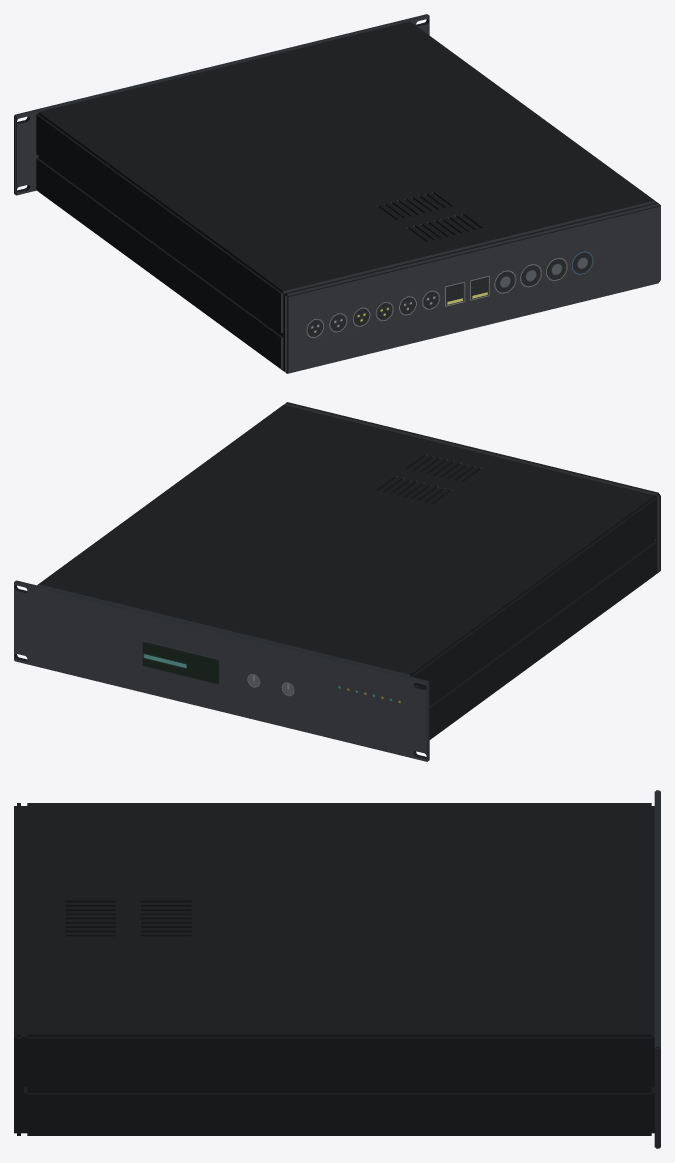
Rendered from db-audiotechnik-d40.glb.
3 views of the same model, one above another, from view 1: azimuth 30°, elevation 25°; view 2: azimuth 150°, elevation 25°; view 3: azimuth 270°, elevation 25° (orthographic). The views are drawn at different scales.
Parts seen in each view (by area): view 1: db-audiotechnik-d40-body; view 2: db-audiotechnik-d40-body; view 3: db-audiotechnik-d40-body.
Boxes of the visible parts, box(x1,y1,x2,y2) form: db-audiotechnik-d40-body: box(14, 14, 660, 373); db-audiotechnik-d40-body: box(14, 402, 660, 761); db-audiotechnik-d40-body: box(14, 790, 660, 1148).
Size of the model in its own units: 0.4826 by 0.0889 by 0.512.
1 material, 1 textured.
